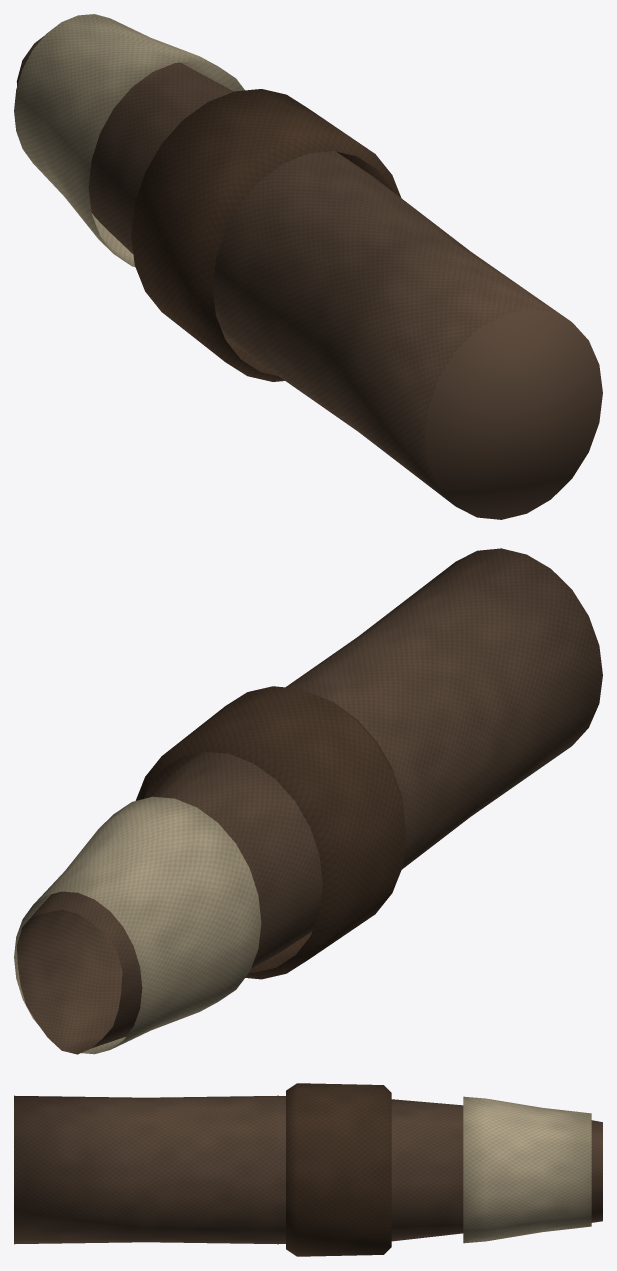
Rendered from fp_forearm_frontier.glb.
3 renders of one model, top to bottom at view 1: azimuth 30°, elevation 25°; view 2: azimuth 150°, elevation 25°; view 3: azimuth 270°, elevation 25°, orthographic. The views are drawn at different scales.
Visible parts, largest first — view 1: fp_forearm; view 2: fp_forearm; view 3: fp_forearm.
Part boxes in pixels (x1,y1,x2,y2): fp_forearm: (14,14,602,519); fp_forearm: (14,548,602,1054); fp_forearm: (14,1083,602,1256).
Bounding box in the file's own units: 0.086 × 0.094 × 0.312.
1 material, 1 textured.
